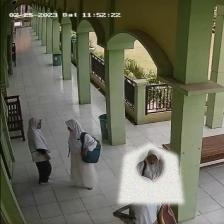Mukena: (118, 143, 183, 203)
